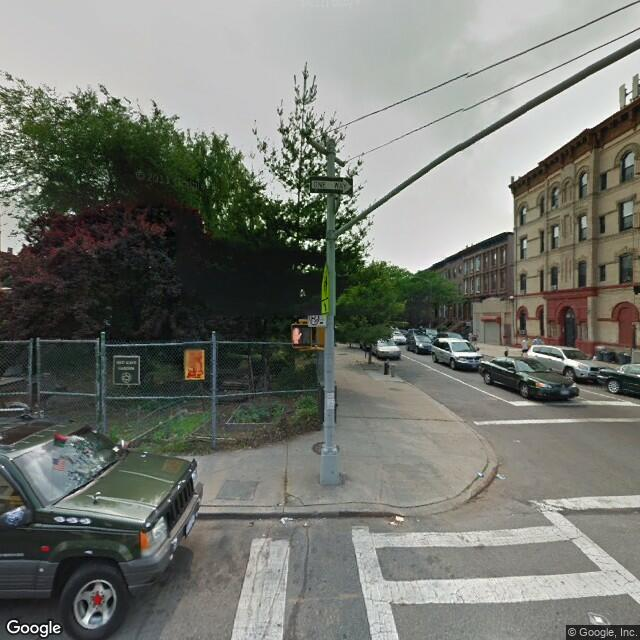litter: (279, 517, 294, 521), (389, 522, 399, 528), (496, 475, 504, 481), (394, 515, 406, 519), (477, 472, 482, 475)
